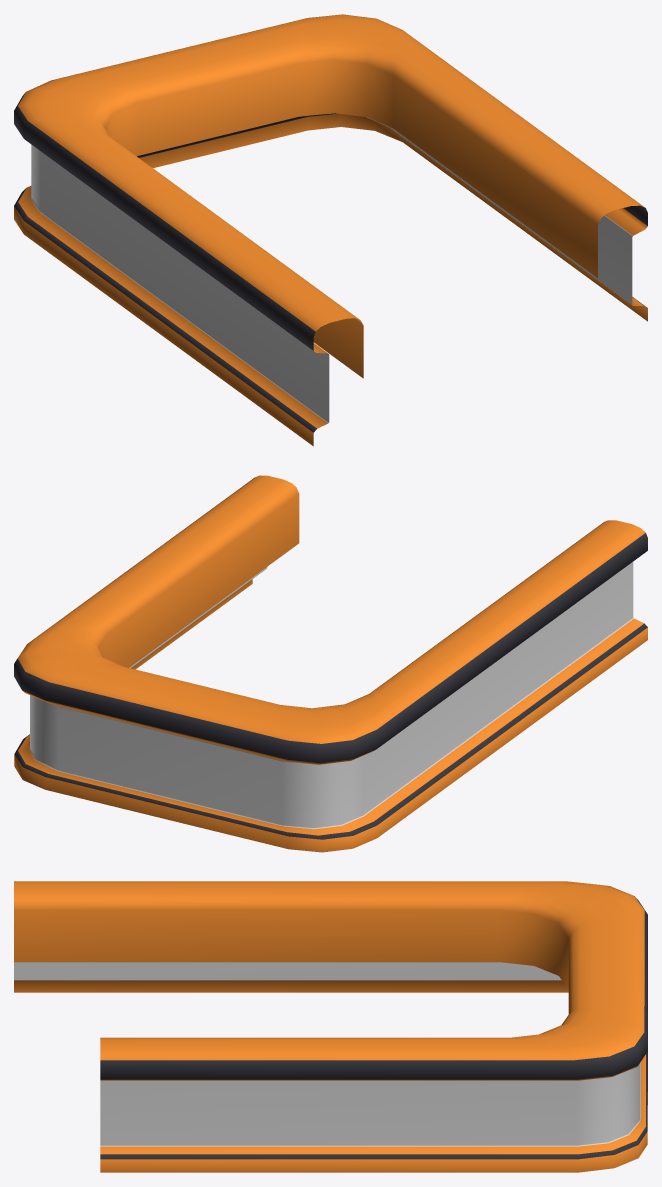
File: Plan de Travail.fbx
The picture shows the model from 3 angles, top to bottom: view 1: azimuth 30°, elevation 25°; view 2: azimuth 150°, elevation 25°; view 3: azimuth 270°, elevation 25°; orthographic projection. The views are drawn at different scales.
Visible parts, largest first — view 1: plan_de_travail; view 2: plan_de_travail; view 3: plan_de_travail.
Part boxes in pixels (bbox=[...]): plan_de_travail: bbox=[14, 14, 647, 446]; plan_de_travail: bbox=[14, 475, 647, 852]; plan_de_travail: bbox=[14, 881, 647, 1172].
Size of the model in its own units: 248 by 74.82 by 368.
1 material, 1 textured.
